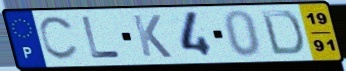0: (222, 8, 266, 60)
4: (177, 10, 218, 61)
C: (36, 14, 81, 63)
D: (258, 9, 306, 57)
K: (130, 13, 175, 59)
L: (79, 15, 123, 60)
